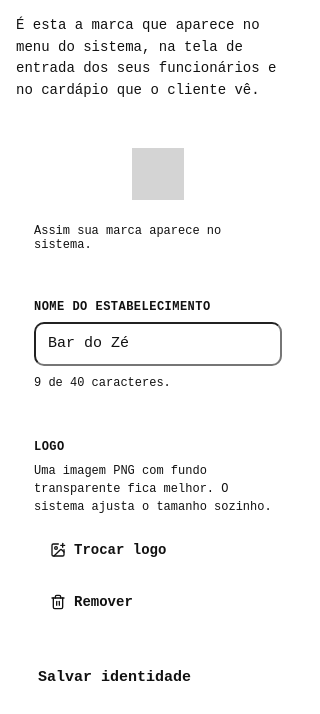
it: IdentidadeTab, gravação › no sucesso avisa que salvou e repinta o tenant do contexto
Step 1. Replace the text in the field labelled "Nome do estabelecimento" with "Cantina Nova" → (158, 344), box x1=34 y1=322 x2=282 y2=366
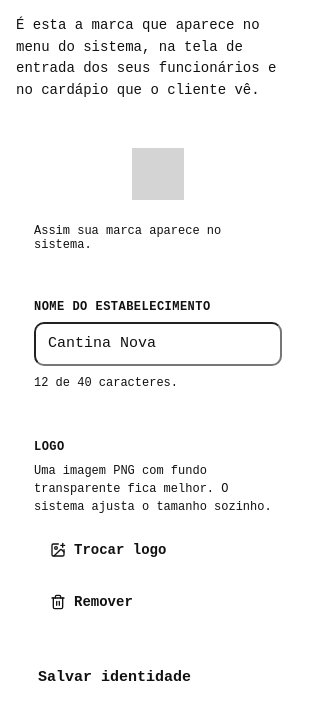
Step 2. Click the button "Salvar identidade" → (114, 678), box x1=16 y1=654 x2=213 y2=702
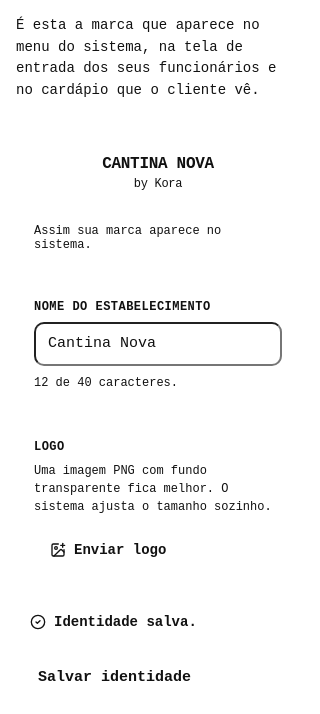
Check: the text "Identidade salva." is shown, box x1=30 y1=614 x2=197 y2=630
